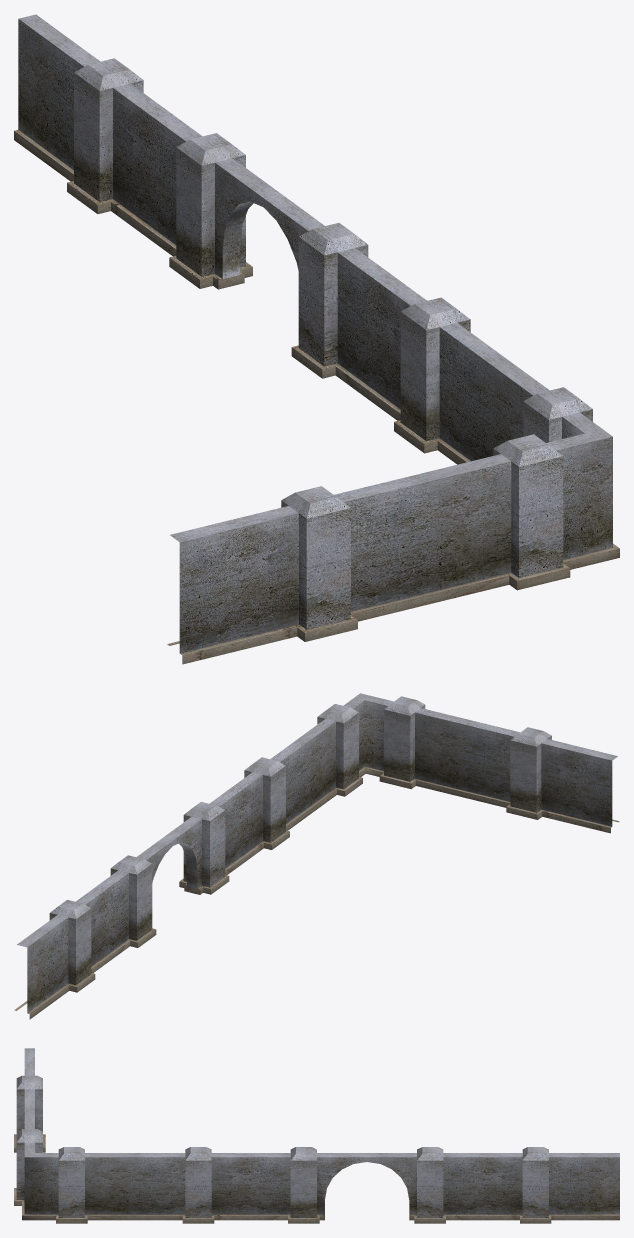
The model's file is M11Z1_TownWall03_C.glb.
3 views of the same model, one above another, from view 1: azimuth 30°, elevation 25°; view 2: azimuth 150°, elevation 25°; view 3: azimuth 270°, elevation 25° (orthographic). The views are drawn at different scales.
Visible parts, largest first — view 1: M11Z1_TOWNWALL03_C; view 2: M11Z1_TOWNWALL03_C; view 3: M11Z1_TOWNWALL03_C.
Boxes of the visible parts, bbox=[...] form: M11Z1_TOWNWALL03_C: bbox=[14, 14, 619, 664]; M11Z1_TOWNWALL03_C: bbox=[14, 693, 619, 1019]; M11Z1_TOWNWALL03_C: bbox=[14, 1048, 619, 1223].
Bounding box in the file's own units: 12.75 × 3.5 × 28.75.
2 materials, 2 textured.
